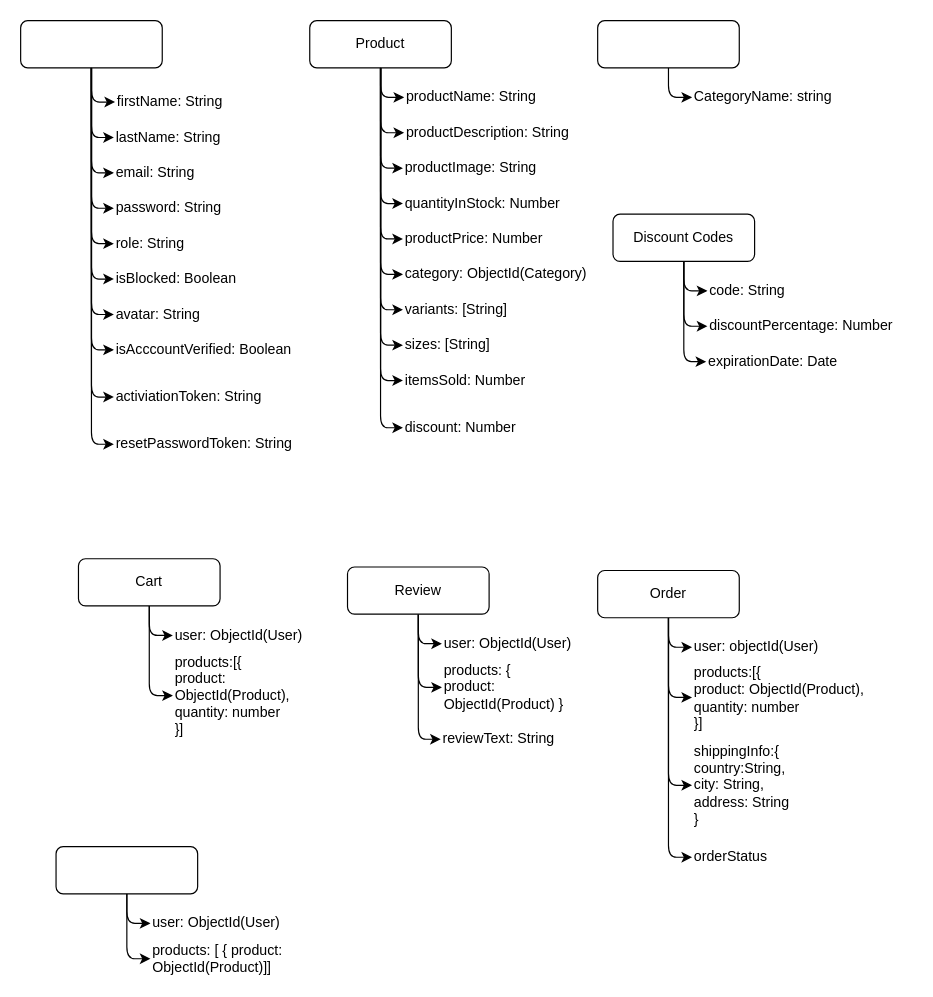
The diagram is 933 pixels wide and 997 high, and some of its shapes have lost their labels. Each missing label, with the box of its shape:
Category: (596, 19, 739, 68)
User: (19, 19, 162, 68)
Wish List: (55, 845, 198, 894)
